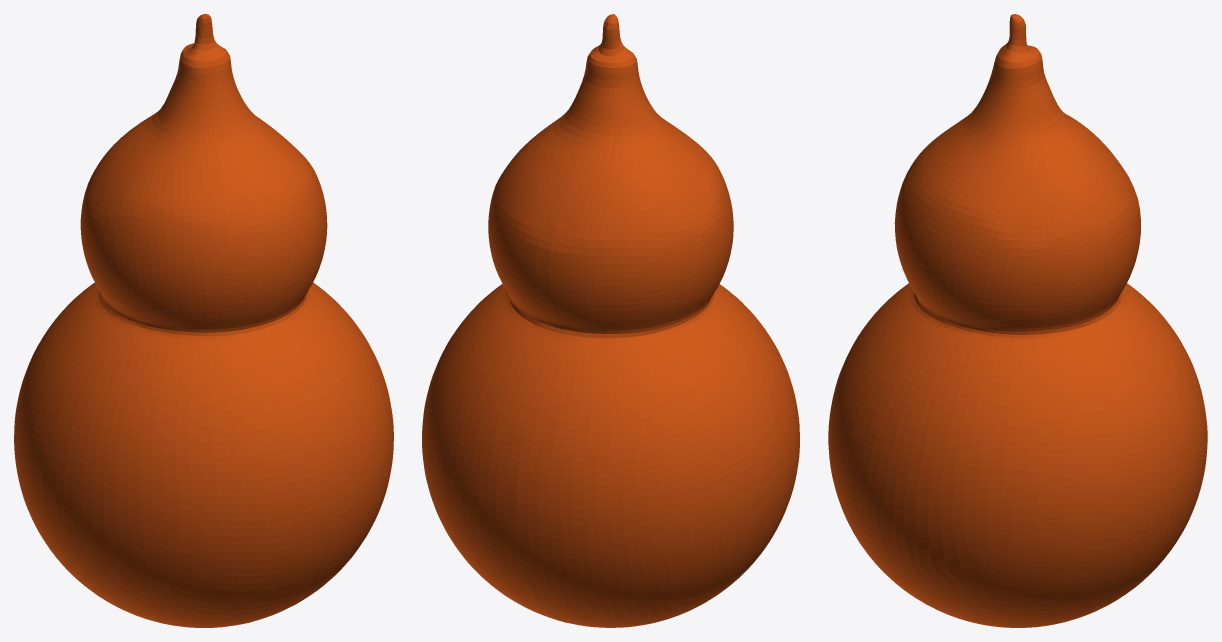
File: uploads_files_3185467_JORONG.fbx
3 views of the same model, side by side, from view 1: azimuth 30°, elevation 25°; view 2: azimuth 150°, elevation 25°; view 3: azimuth 270°, elevation 25° (orthographic).
Visible parts, largest first — view 1: sdsdsdsdsdsdsdsd'; view 2: sdsdsdsdsdsdsdsd'; view 3: sdsdsdsdsdsdsdsd'.
Part boxes in pixels (box(x1,y1,x2,y2)): sdsdsdsdsdsdsdsd': box(14, 14, 393, 627); sdsdsdsdsdsdsdsd': box(422, 14, 799, 627); sdsdsdsdsdsdsdsd': box(828, 14, 1207, 627).
Bounding box in the file's own units: 200 × 346 × 200.
